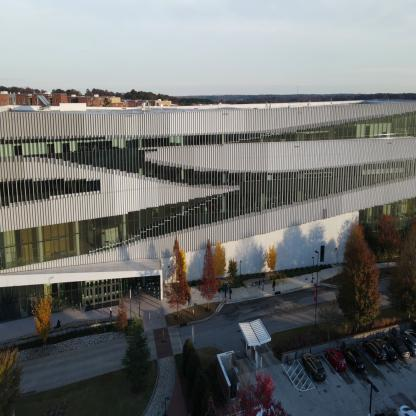Hunt Library: (1, 88, 415, 341)
